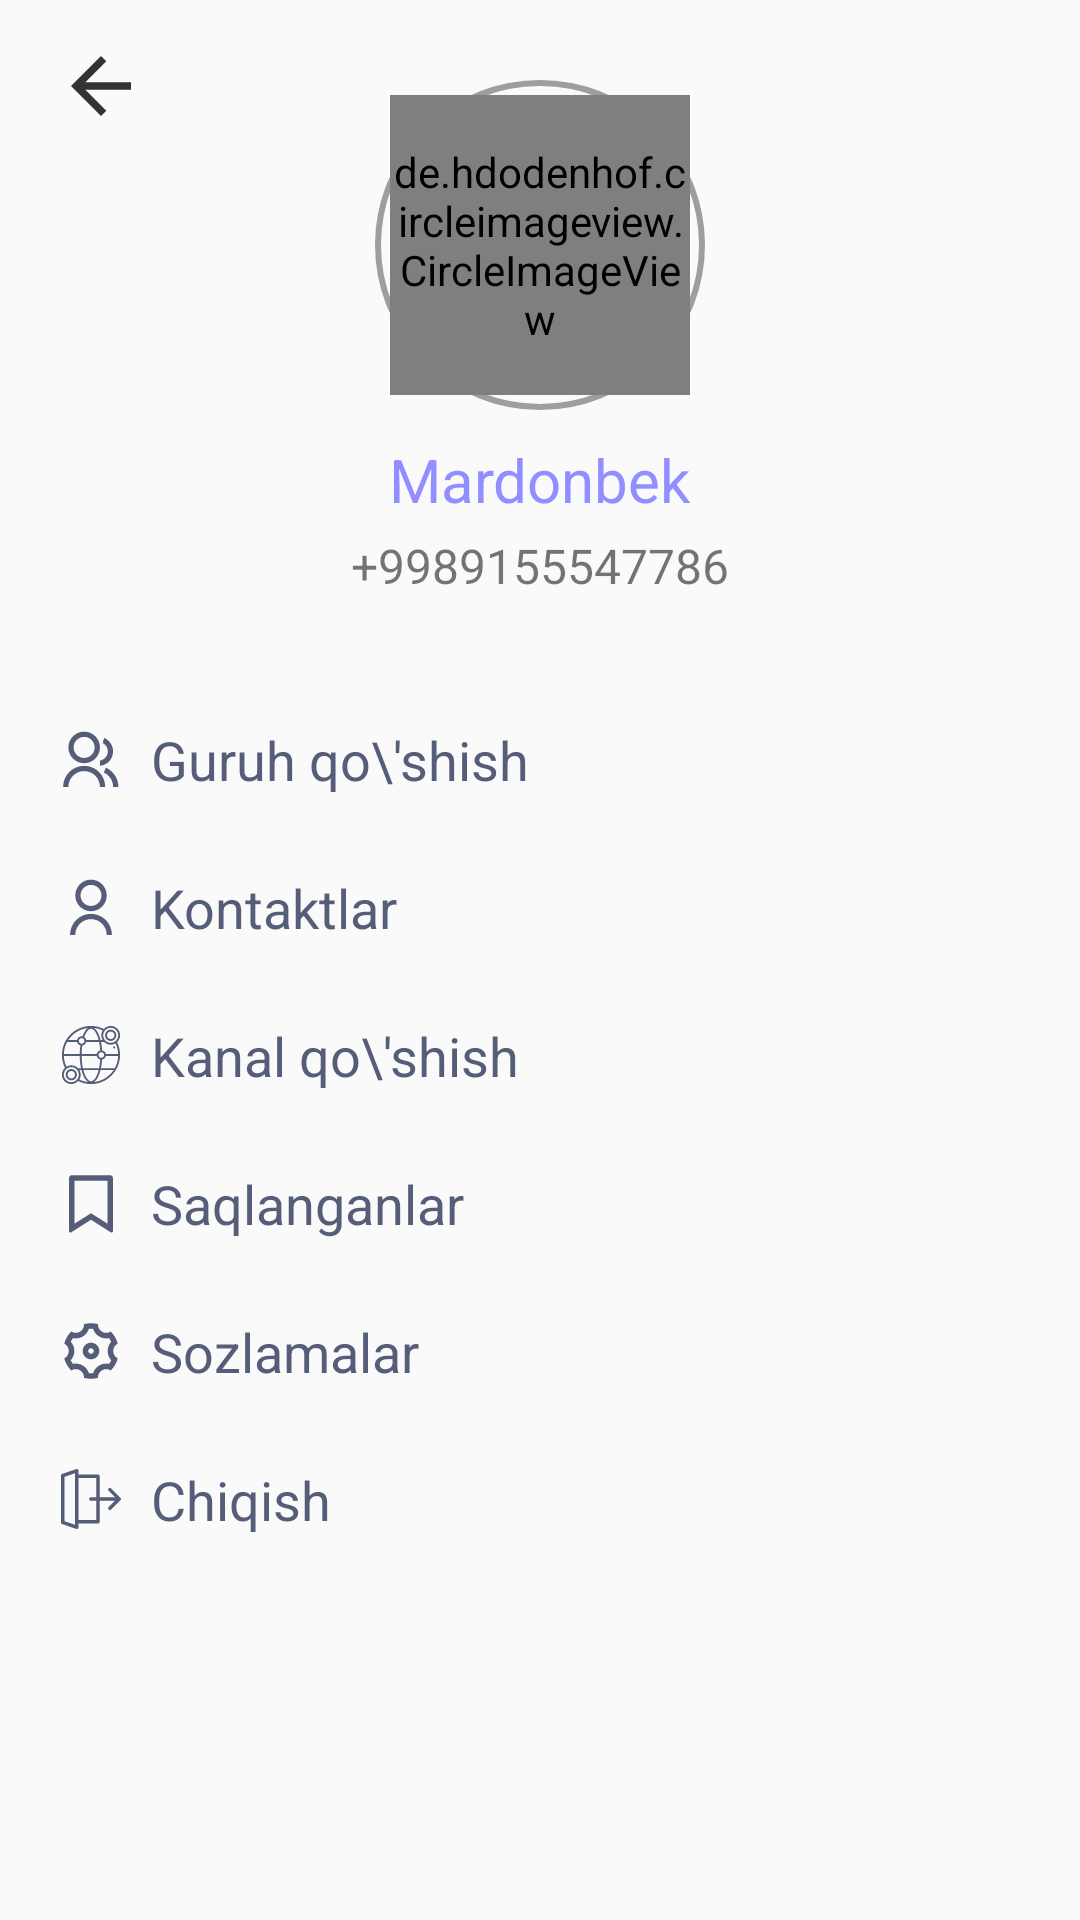

Locate icon controls on the screen. Image size 1080x1920, boxes as (x1, y1, x2, y2).
add group: (63, 731, 119, 787)
back: (71, 56, 131, 116)
chanel: (62, 1026, 120, 1084)
contacts: (70, 879, 112, 935)
saved: (69, 1175, 113, 1233)
settings: (64, 1323, 118, 1379)
